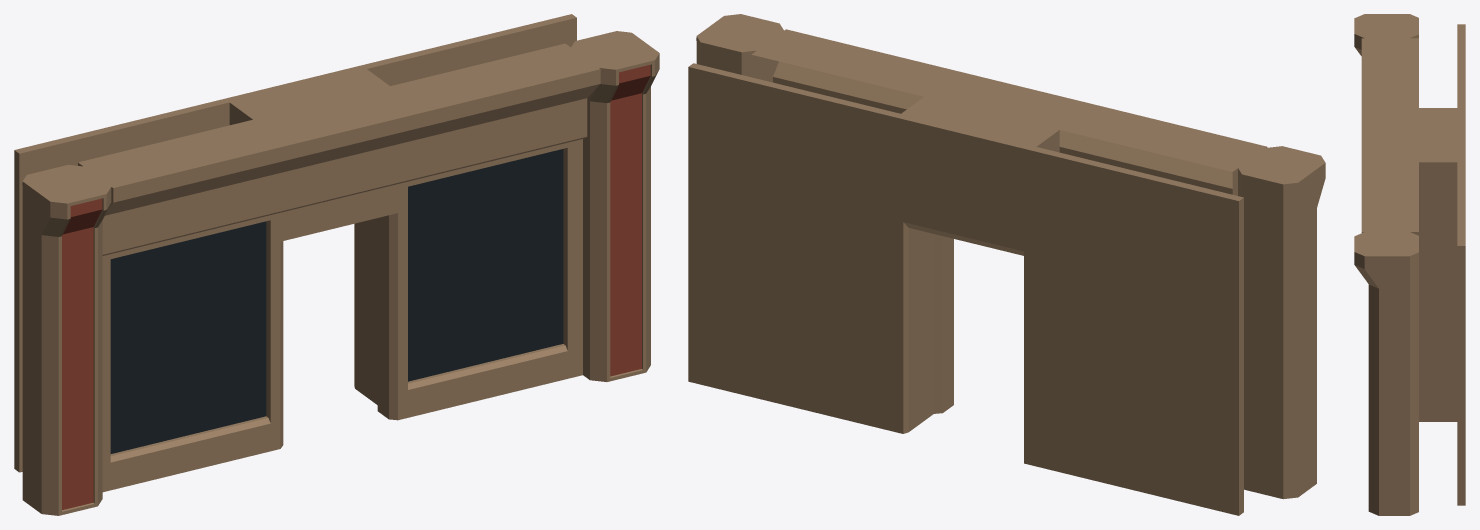
Rendered from front4.fbx.
3 renders of one model, left to right at view 1: azimuth 30°, elevation 25°; view 2: azimuth 150°, elevation 25°; view 3: azimuth 270°, elevation 25°, orthographic. The views are drawn at different scales.
Parts seen in each view (by area): view 1: Cube.007; view 2: Cube.007; view 3: Cube.007.
Boxes of the visible parts, bbox=[...] form: Cube.007: bbox=[14, 14, 659, 515]; Cube.007: bbox=[688, 14, 1325, 515]; Cube.007: bbox=[1354, 14, 1465, 515].
Size of the model in its own units: 800 by 400 by 155.
